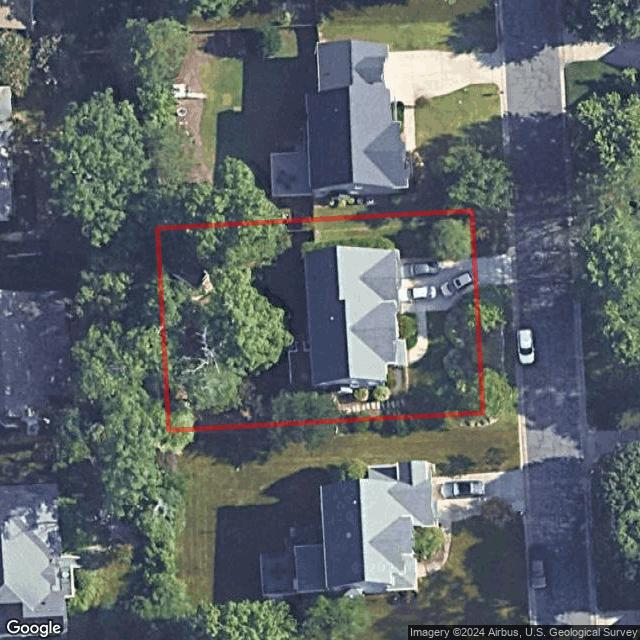Driveway: (396, 257, 476, 312)
Extra-Driveway: (476, 254, 510, 288)
Extra-Lawn: (478, 283, 518, 414), (472, 210, 507, 257)
House: (302, 246, 408, 387)
Lawn: (158, 211, 483, 430)
Other: (157, 220, 280, 430), (331, 367, 410, 413), (288, 338, 315, 390)
Sidewalk: (408, 312, 429, 363)
